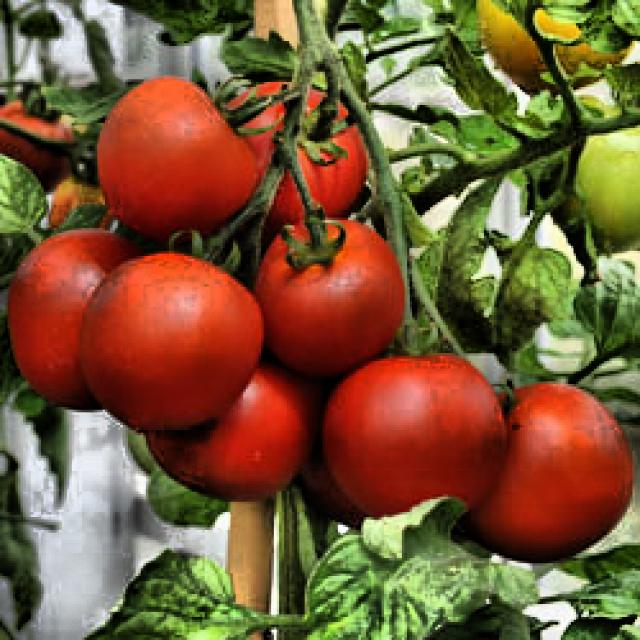tomato: (93, 89, 501, 531)
